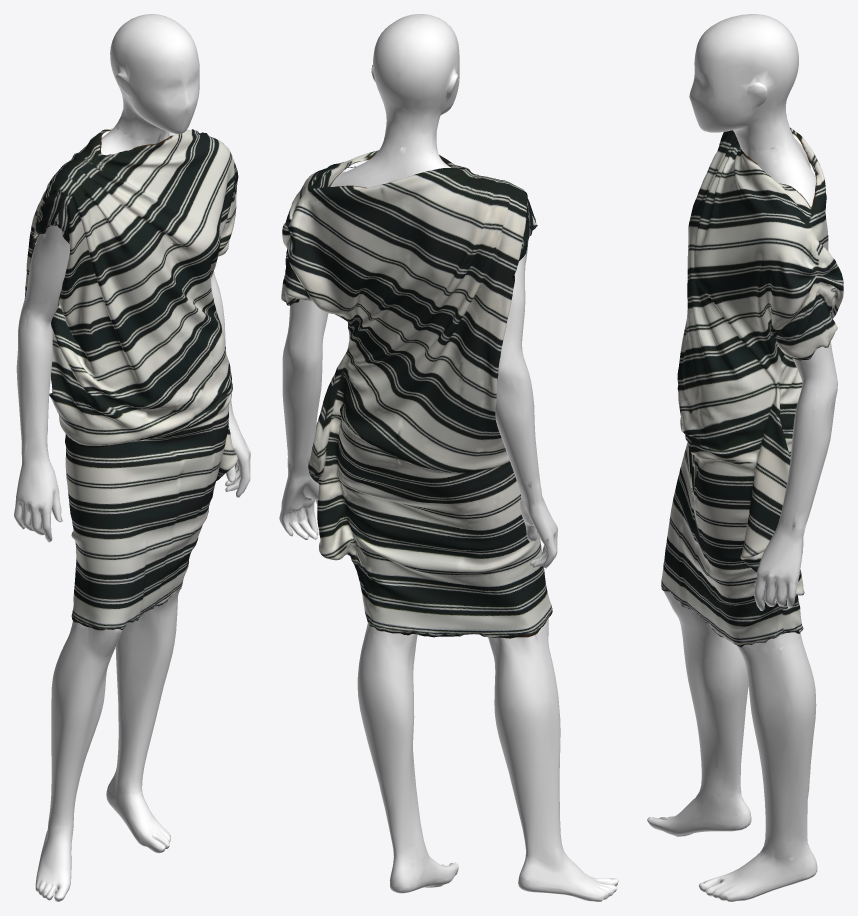
Rendered from BWdress.glb.
3 renders of one model, left to right at view 1: azimuth 30°, elevation 25°; view 2: azimuth 150°, elevation 25°; view 3: azimuth 270°, elevation 25°, orthographic. The views are drawn at different scales.
Visible parts, largest first — view 1: bw_dress; view 2: bw_dress; view 3: bw_dress.
Part boxes in pixels (x1=…): bw_dress: x1=14, y1=14, x2=250, y2=901; bw_dress: x1=279, y1=14, x2=618, y2=901; bw_dress: x1=647, y1=14, x2=843, y2=901.
Size of the model in its own units: 57.08 by 173 by 34.85.
Materials: 1 (1 with a texture image).
